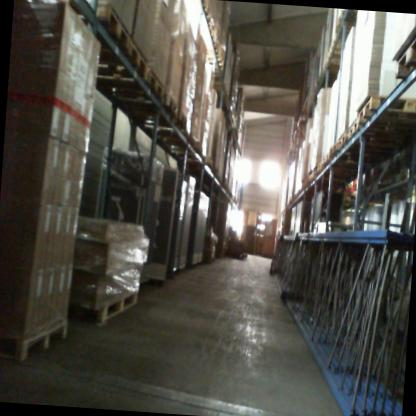pallet: (0, 316, 68, 366), (69, 285, 138, 328), (94, 68, 165, 102), (356, 93, 416, 133), (96, 37, 151, 78), (92, 4, 132, 54), (348, 119, 416, 145), (117, 92, 180, 119), (131, 108, 189, 134), (338, 134, 408, 154), (394, 27, 416, 80), (329, 142, 391, 160), (334, 9, 357, 35), (317, 162, 359, 175), (322, 154, 360, 167), (207, 22, 215, 38), (194, 141, 203, 152), (211, 35, 218, 49), (214, 47, 222, 58)
